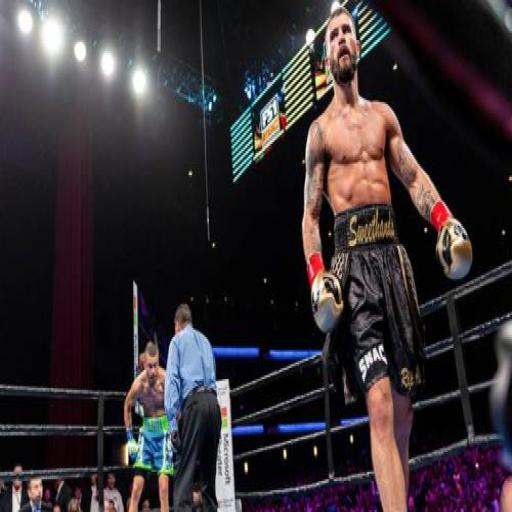boxing: (300, 4, 473, 510)
